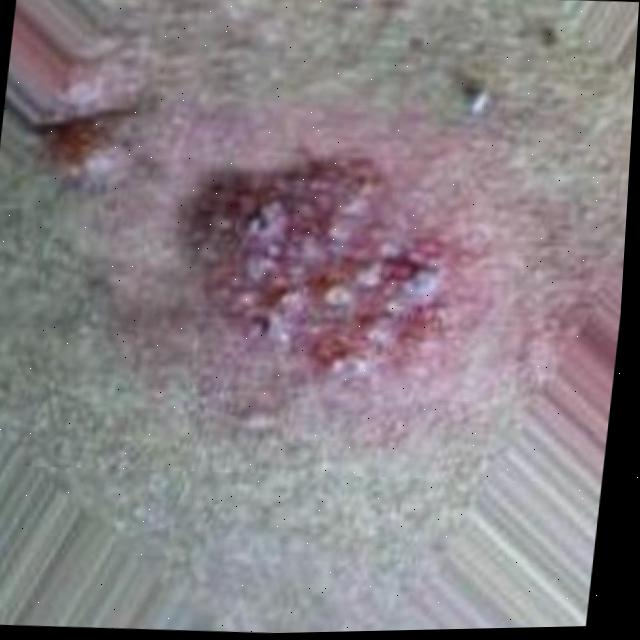Shingles: (173, 128, 474, 393)
